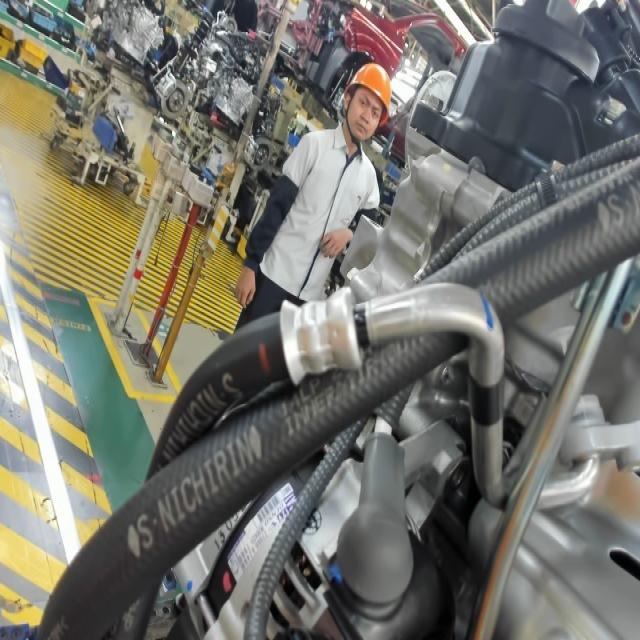Alternator-BA1: (280, 487, 300, 518)
Hose Discharge-HT: (465, 369, 508, 433)
